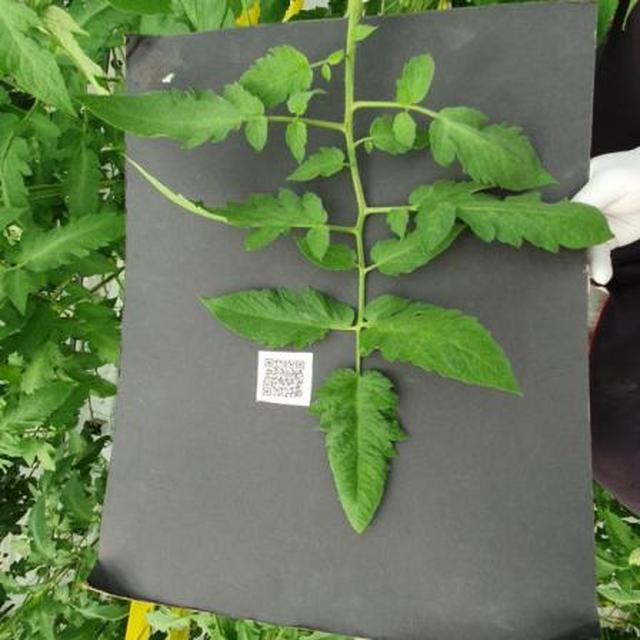Healthy Leaf: (58, 51, 640, 640)
